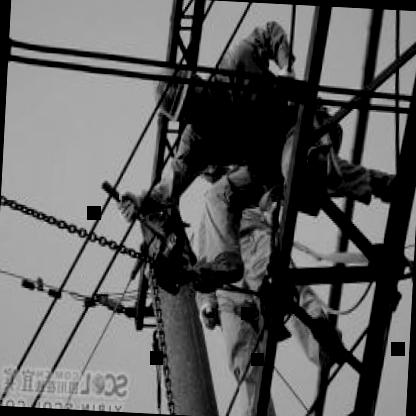helmet: (148, 52, 218, 127)
